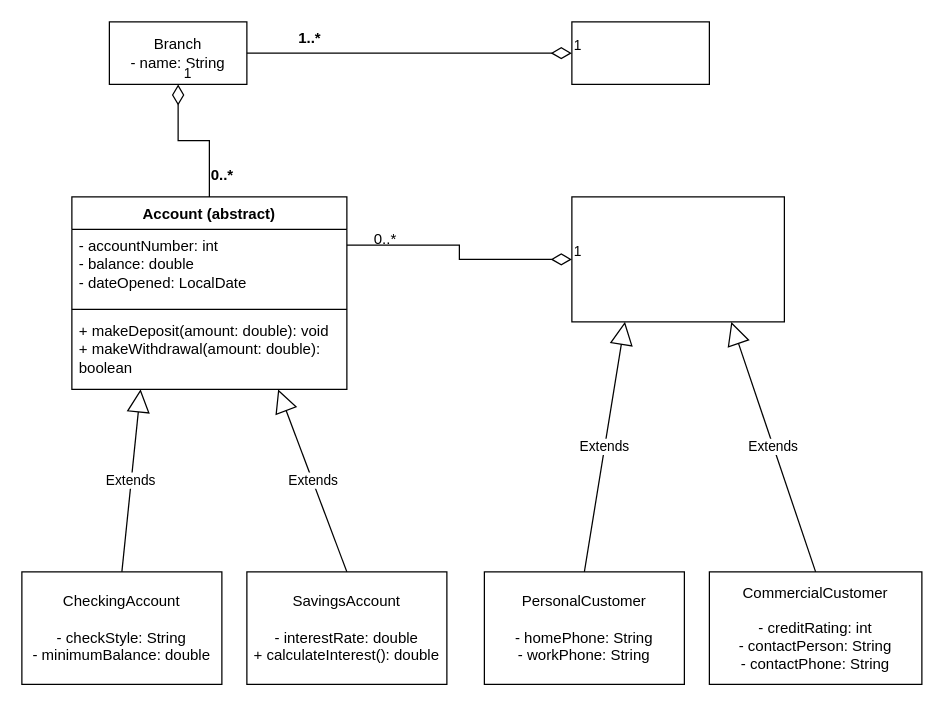
Some shapes in this 944 by 706 pixel diagram are drawn without their labels. The centre of each missing label's shape, as x and y in pixels:
Bank: [640,52]
Customer (abstract) - name: String - address: String - phone: String: [677,259]
